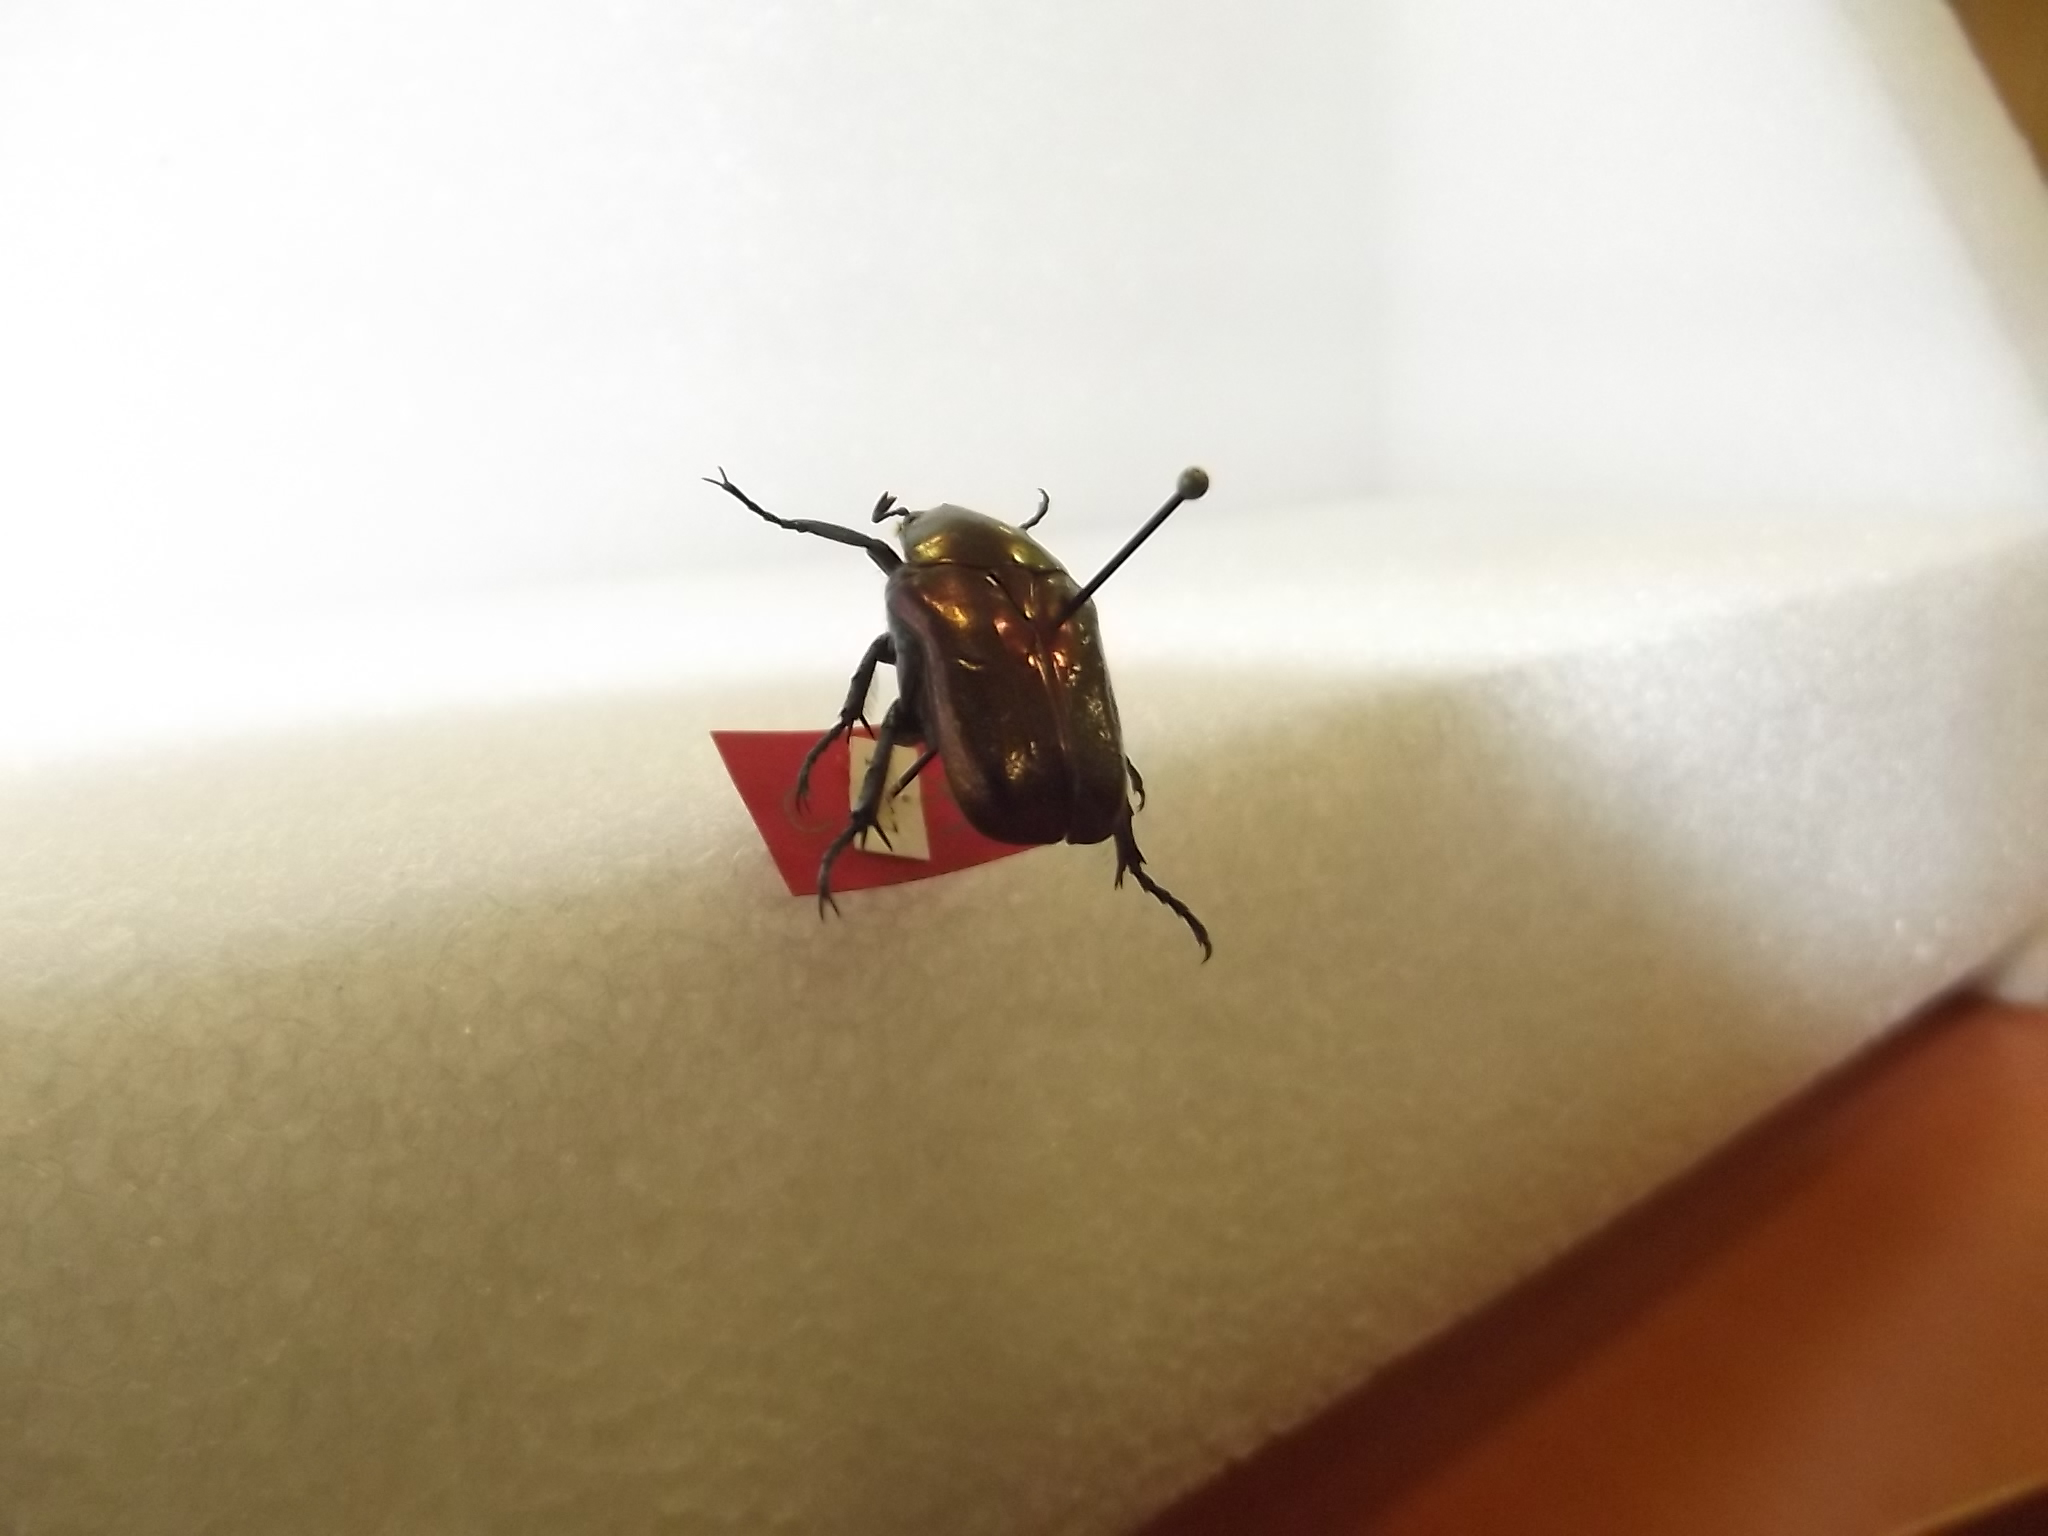Protaetia_besucheti: (679, 453, 1234, 979)
